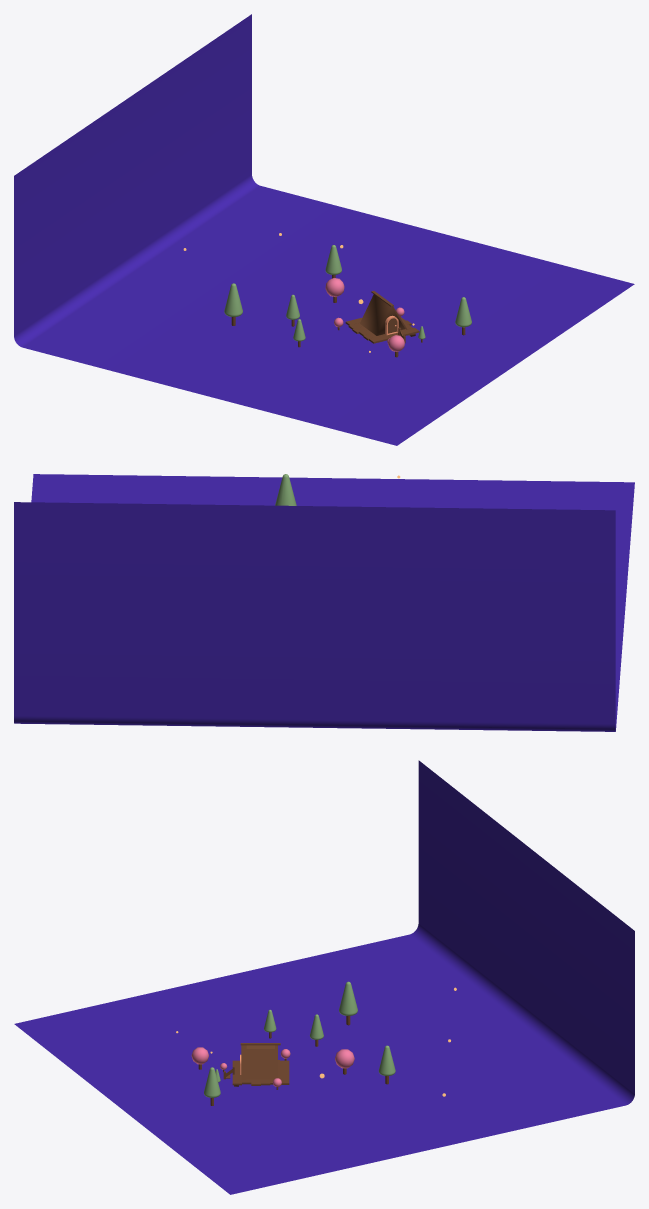
The model's file is some.glb.
3 renders of one model, top to bottom at view 1: azimuth 30°, elevation 25°; view 2: azimuth 150°, elevation 25°; view 3: azimuth 270°, elevation 25°, orthographic. The views are drawn at different scales.
Parts seen in each view (by area): view 1: Plane.008, Cube, Plane.002; view 2: Plane.008, Circle.001; view 3: Plane.008, Cube, Plane.002.
Boxes of the visible parts, x1,y1,x2,y2 form: Plane.008: (14,14,634,445); Cube: (360,294,404,335); Plane.002: (345,317,419,343); Plane.008: (14,474,634,731); Circle.001: (275,474,296,505); Plane.008: (14,760,634,1194); Cube: (246,1045,277,1079); Plane.002: (232,1060,289,1085).
Size of the model in its own units: 36.02 by 11.04 by 36.02.
